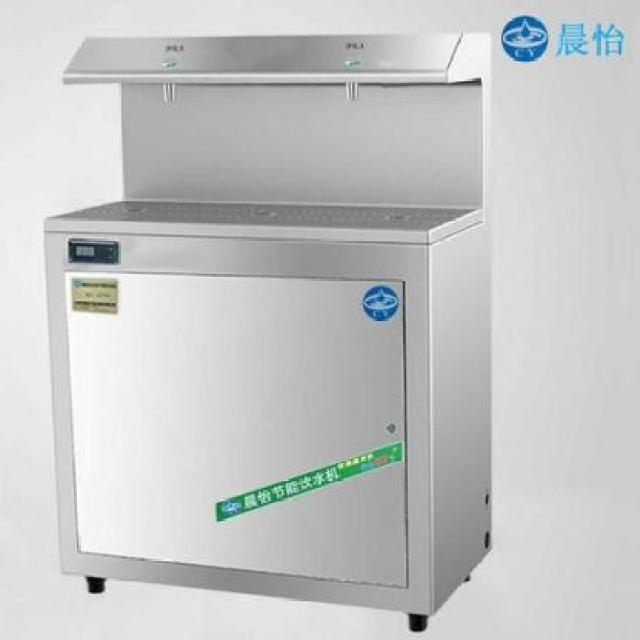cooler: (40, 28, 495, 635)
